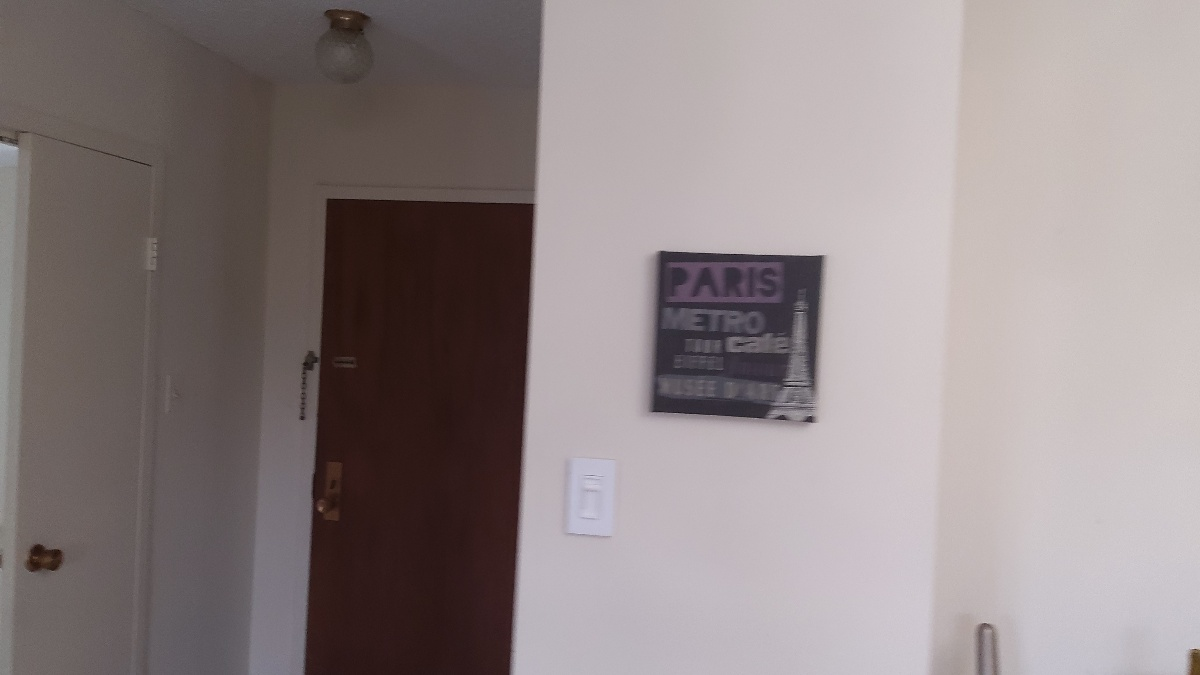poster: (645, 241, 828, 433)
